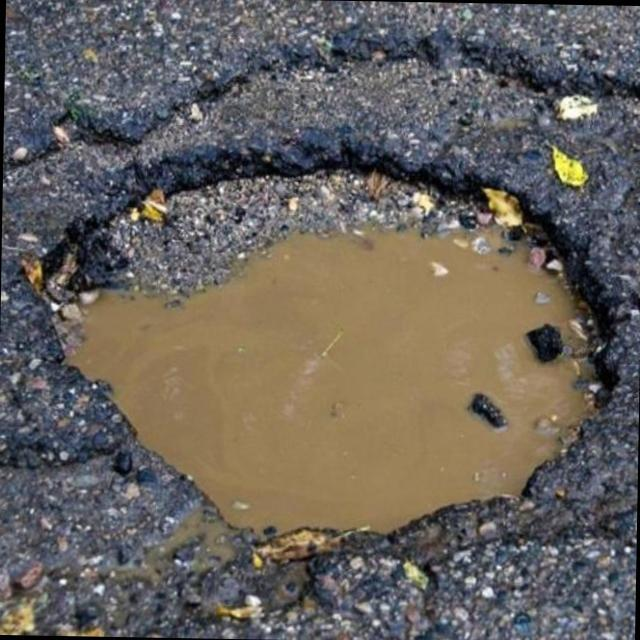Pothole: (68, 171, 599, 529)
